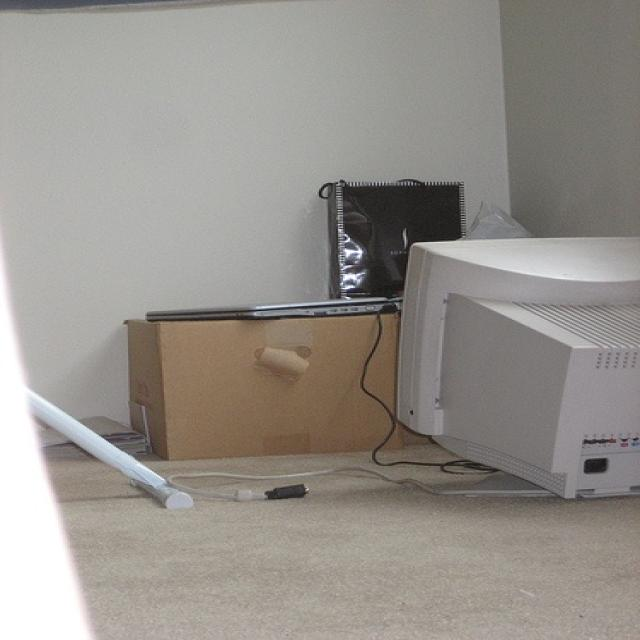tvmonitor: (391, 236, 638, 499)
